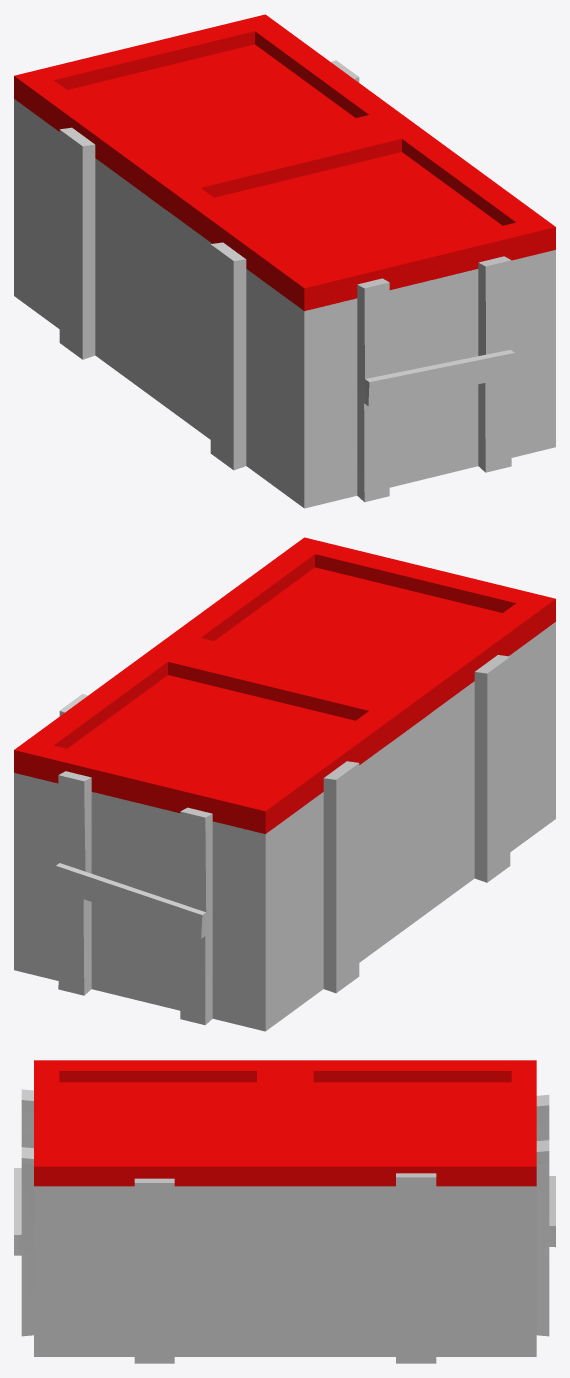
File: WeaponBox.fbx
The picture shows the model from 3 angles, top to bottom: view 1: azimuth 30°, elevation 25°; view 2: azimuth 150°, elevation 25°; view 3: azimuth 270°, elevation 25°; orthographic projection. The views are drawn at different scales.
Parts seen in each view (by area): view 1: Caja, Tapa; view 2: Caja, Tapa; view 3: Caja, Tapa.
Boxes of the visible parts, bbox=[...] form: Caja: bbox=[14, 60, 555, 508]; Tapa: bbox=[14, 14, 555, 311]; Caja: bbox=[14, 622, 555, 1031]; Tapa: bbox=[14, 537, 555, 833]; Caja: bbox=[14, 1089, 555, 1363]; Tapa: bbox=[34, 1060, 536, 1186].
Bounding box in the file's own units: 45.65 × 34.92 × 89.5.
